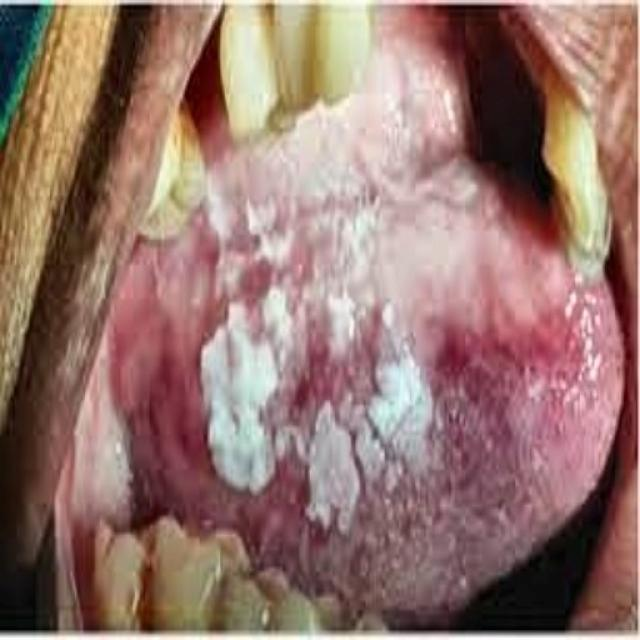leukoplakia-like-detection: (187, 162, 472, 546)
processing_area: (58, 82, 610, 603)
